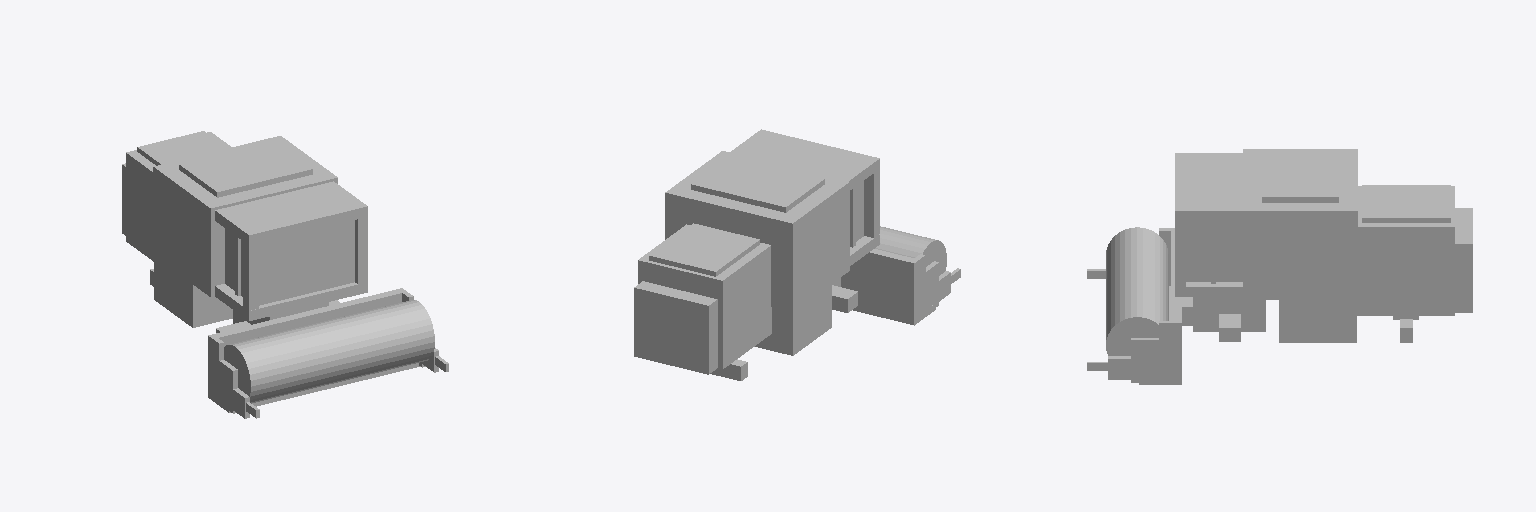
The model's file is combine-body.obj.
3 views of the same model, side by side, from view 1: azimuth 30°, elevation 25°; view 2: azimuth 150°, elevation 25°; view 3: azimuth 270°, elevation 25° (orthographic).
Visible parts, largest first — view 1: Cube.002_Cube.003; view 2: Cube.002_Cube.003; view 3: Cube.002_Cube.003.
Part boxes in pixels (left/top/right/bottom): Cube.002_Cube.003: left=122, top=131, right=448, bottom=418; Cube.002_Cube.003: left=634, top=129, right=960, bottom=380; Cube.002_Cube.003: left=1087, top=149, right=1472, bottom=384.
Size of the model in its own units: 6.87 by 5.52 by 11.82.